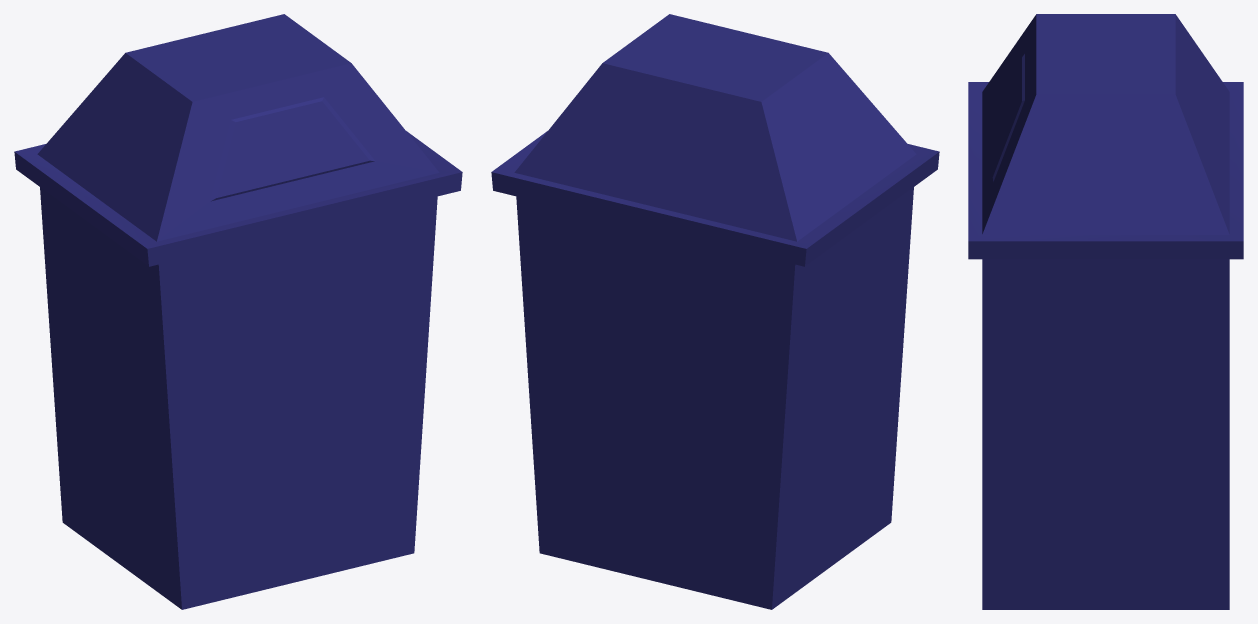
Rendered from BASURAHAN(BLUE).fbx.
3 views of the same model, side by side, from view 1: azimuth 30°, elevation 25°; view 2: azimuth 150°, elevation 25°; view 3: azimuth 270°, elevation 25° (orthographic). The views are drawn at different scales.
Parts seen in each view (by area): view 1: pCube32; view 2: pCube32; view 3: pCube32.
Boxes of the visible parts, x1=… form: pCube32: x1=14, y1=14, x2=462, y2=609; pCube32: x1=491, y1=14, x2=939, y2=609; pCube32: x1=968, y1=14, x2=1243, y2=609.
Size of the model in its own units: 1.52 by 2.22 by 1.11.
